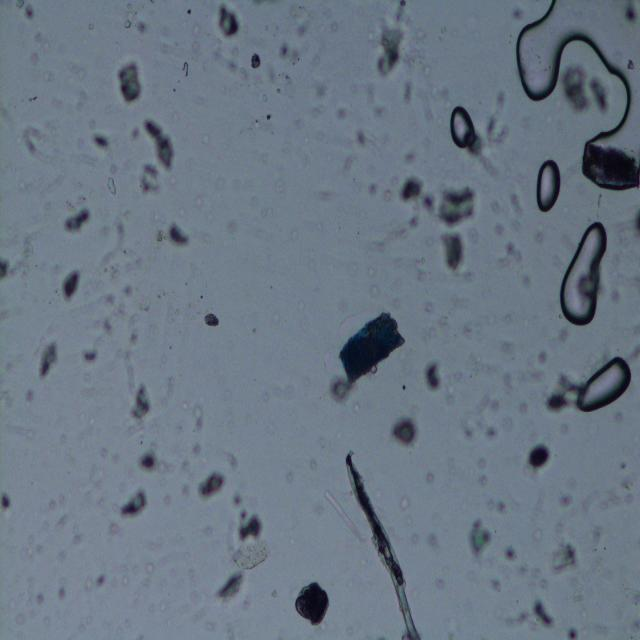Air bubble: (513, 0, 640, 194), (558, 217, 610, 326), (575, 354, 640, 410), (536, 156, 562, 213), (448, 100, 476, 148)
Background material: (214, 496, 266, 603), (471, 85, 517, 176), (482, 185, 529, 274), (88, 208, 142, 283), (580, 142, 640, 194), (560, 59, 610, 116), (98, 280, 142, 343), (377, 1, 411, 80), (462, 393, 514, 442), (322, 482, 364, 542), (395, 169, 436, 228), (142, 115, 178, 175), (542, 362, 582, 413), (507, 593, 556, 634), (435, 185, 478, 229), (294, 579, 330, 627), (604, 453, 634, 509), (436, 227, 470, 274), (275, 18, 308, 65), (462, 514, 494, 560), (114, 59, 143, 108), (388, 406, 419, 451), (212, 4, 245, 46), (34, 333, 64, 378), (523, 432, 552, 476), (153, 222, 193, 252), (60, 203, 96, 236), (548, 539, 580, 576), (128, 380, 152, 428), (82, 122, 114, 157), (135, 158, 163, 198), (119, 486, 148, 524), (19, 123, 49, 159), (210, 47, 242, 80), (135, 445, 165, 479), (196, 464, 224, 500), (328, 373, 360, 404), (394, 76, 424, 107), (117, 5, 149, 34), (58, 268, 82, 306), (351, 121, 375, 156), (422, 356, 444, 393), (0, 252, 20, 286), (187, 403, 209, 429), (216, 450, 240, 472), (361, 174, 383, 197), (50, 577, 68, 604), (83, 572, 106, 593), (16, 0, 36, 24), (201, 310, 222, 332), (555, 488, 575, 511), (253, 109, 279, 126), (528, 346, 550, 366), (398, 489, 413, 514), (246, 52, 263, 73), (557, 324, 573, 346), (173, 63, 193, 80), (316, 82, 332, 103), (502, 544, 518, 564), (0, 490, 13, 514), (82, 348, 98, 365), (104, 180, 117, 200), (565, 623, 580, 640), (21, 386, 34, 405), (419, 300, 434, 315), (632, 215, 640, 238), (424, 473, 434, 488), (337, 108, 348, 120)
Cellulose filter fibre: (343, 452, 423, 640)
Fragment: (340, 310, 404, 381)
